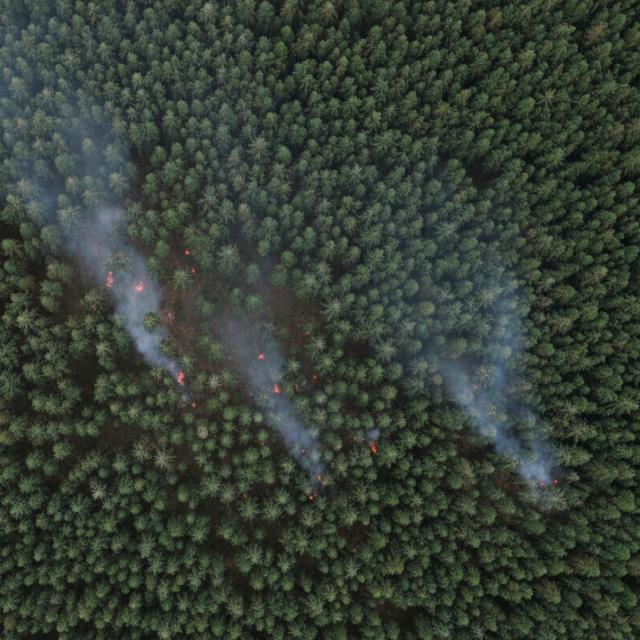wildfire: (240, 332, 298, 402), (88, 242, 152, 302), (156, 354, 206, 420), (292, 443, 342, 503), (517, 442, 566, 500), (449, 362, 491, 418), (363, 418, 383, 455)
